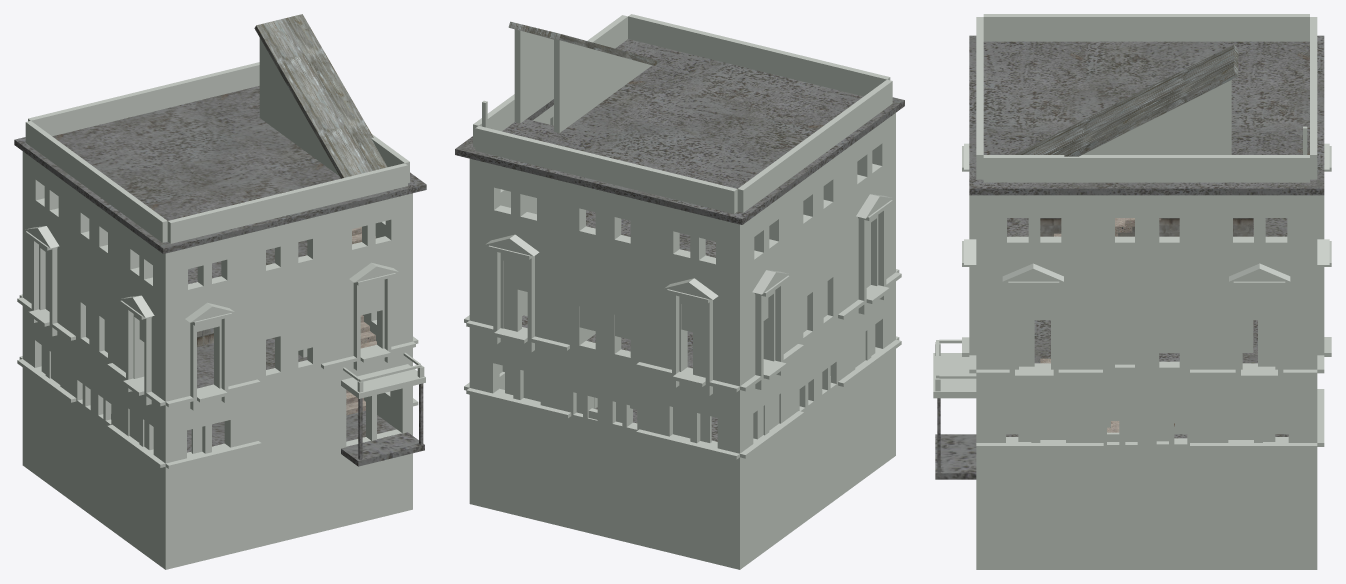
Rendered from BagBuilding1High.fbx.
The picture shows the model from 3 angles, left to right: view 1: azimuth 30°, elevation 25°; view 2: azimuth 150°, elevation 25°; view 3: azimuth 270°, elevation 25°; orthographic projection. The views are drawn at different scales.
Parts seen in each view (by area): view 1: mainA300, floors300, shedroof300, porch300, stairs300; view 2: mainA300, floors300, shedroof300; view 3: mainA300, floors300, shedroof300, porch300, innerwalla300, stairs300.
Part boxes in pixels (left/top/right/bottom): mainA300: left=17, top=38, right=425, bottom=569; floors300: left=14, top=86, right=426, bottom=452; shedroof300: left=254, top=14, right=387, bottom=178; porch300: left=341, top=383, right=424, bottom=466; stairs300: left=346, top=227, right=376, bottom=415; mainA300: left=464, top=14, right=901, bottom=569; floors300: left=455, top=39, right=904, bottom=441; shedroof300: left=508, top=21, right=660, bottom=65; mainA300: left=933, top=14, right=1331, bottom=569; floors300: left=969, top=35, right=1324, bottom=438; shedroof300: left=1015, top=44, right=1238, bottom=156; porch300: left=935, top=398, right=976, bottom=479; innerwalla300: left=1040, top=218, right=1253, bottom=236; stairs300: left=1040, top=218, right=1174, bottom=432.
Size of the model in its own units: 15.92 by 23.64 by 17.16.
